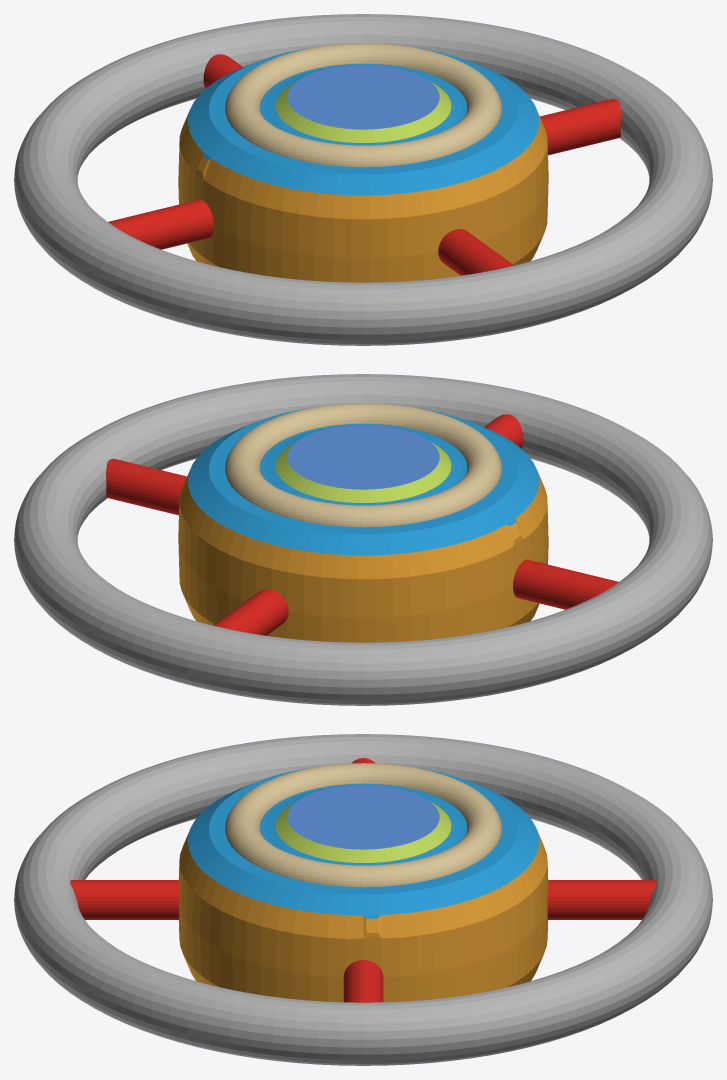
File: NaveEstacao.fbx
The picture shows the model from 3 angles, top to bottom: view 1: azimuth 30°, elevation 25°; view 2: azimuth 150°, elevation 25°; view 3: azimuth 270°, elevation 25°; orthographic projection.
Visible parts, largest first — view 1: Torus.002, CorpoNave, Torus.003, Cylinder, Cylinder.001; view 2: Torus.002, CorpoNave, Torus.003, Cylinder, Cylinder.001; view 3: Torus.002, CorpoNave, Torus.003, Cylinder.001, Cylinder.
Part boxes in pixels (x1=…): Torus.002: x1=14, y1=14, x2=712, y2=345; CorpoNave: x1=178, y1=47, x2=548, y2=282; Torus.003: x1=225, y1=43, x2=501, y2=167; Cylinder: x1=108, y1=98, x2=620, y2=249; Cylinder.001: x1=203, y1=54, x2=513, y2=275; Torus.002: x1=14, y1=374, x2=712, y2=705; CorpoNave: x1=178, y1=407, x2=548, y2=642; Torus.003: x1=225, y1=403, x2=501, y2=527; Cylinder: x1=106, y1=458, x2=618, y2=609; Cylinder.001: x1=213, y1=414, x2=523, y2=635; Torus.002: x1=14, y1=734, x2=712, y2=1065; CorpoNave: x1=178, y1=767, x2=548, y2=1002; Torus.003: x1=225, y1=763, x2=501, y2=887; Cylinder.001: x1=70, y1=880, x2=656, y2=919; Cylinder: x1=343, y1=758, x2=383, y2=1002.
Size of the model in its own units: 377 by 100 by 377.
